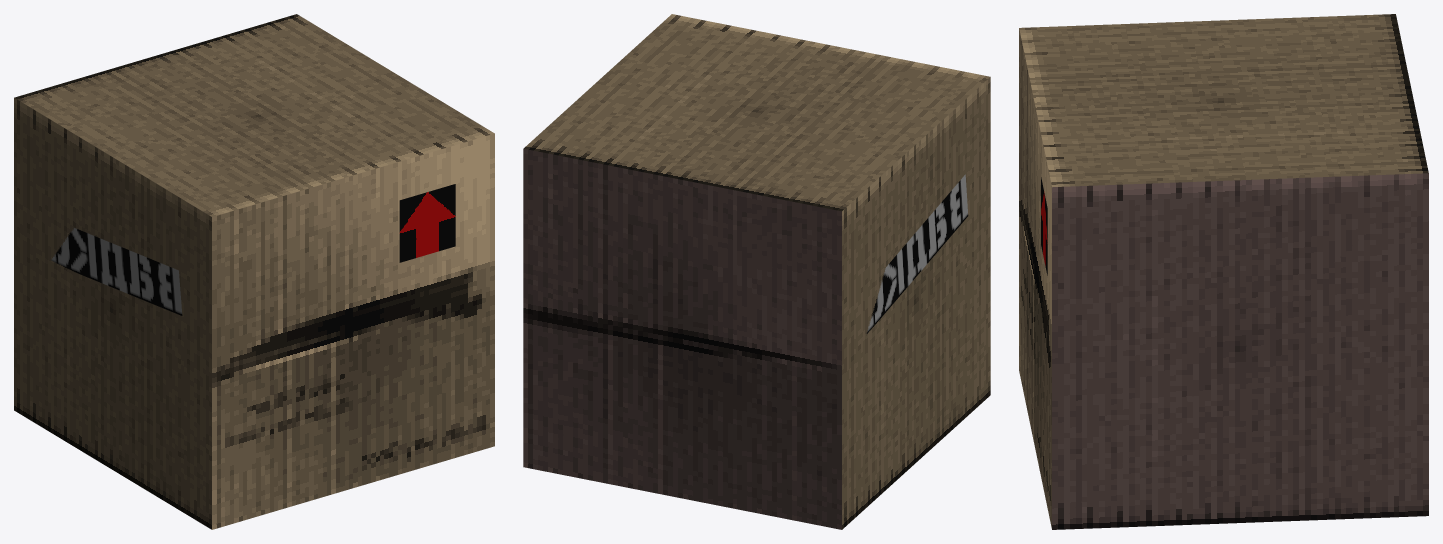
Rendered from primary_035.glb.
The picture shows the model from 3 angles, left to right: view 1: azimuth 30°, elevation 25°; view 2: azimuth 150°, elevation 25°; view 3: azimuth 270°, elevation 25°; orthographic projection. The views are drawn at different scales.
Visible parts, largest first — view 1: Object; view 2: Object; view 3: Object.
Part boxes in pixels (<box>): Object: <box>14,14,494,529</box>; Object: <box>523,14,990,529</box>; Object: <box>1019,14,1428,529</box>.
Size of the model in its own units: 1.03 by 0.9501 by 1.03.
Materials: 8 (8 with a texture image).
